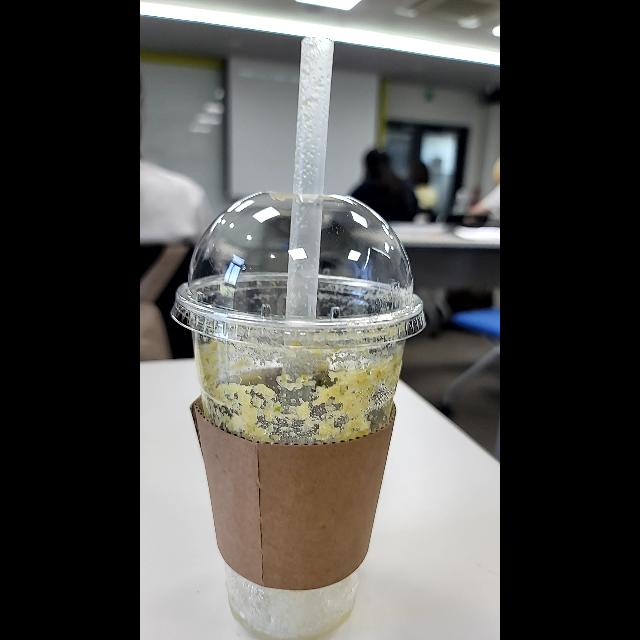plastic_cup: (172, 192, 432, 640)
plastic_cup_lid: (172, 192, 424, 351)
straw: (277, 45, 337, 406)
